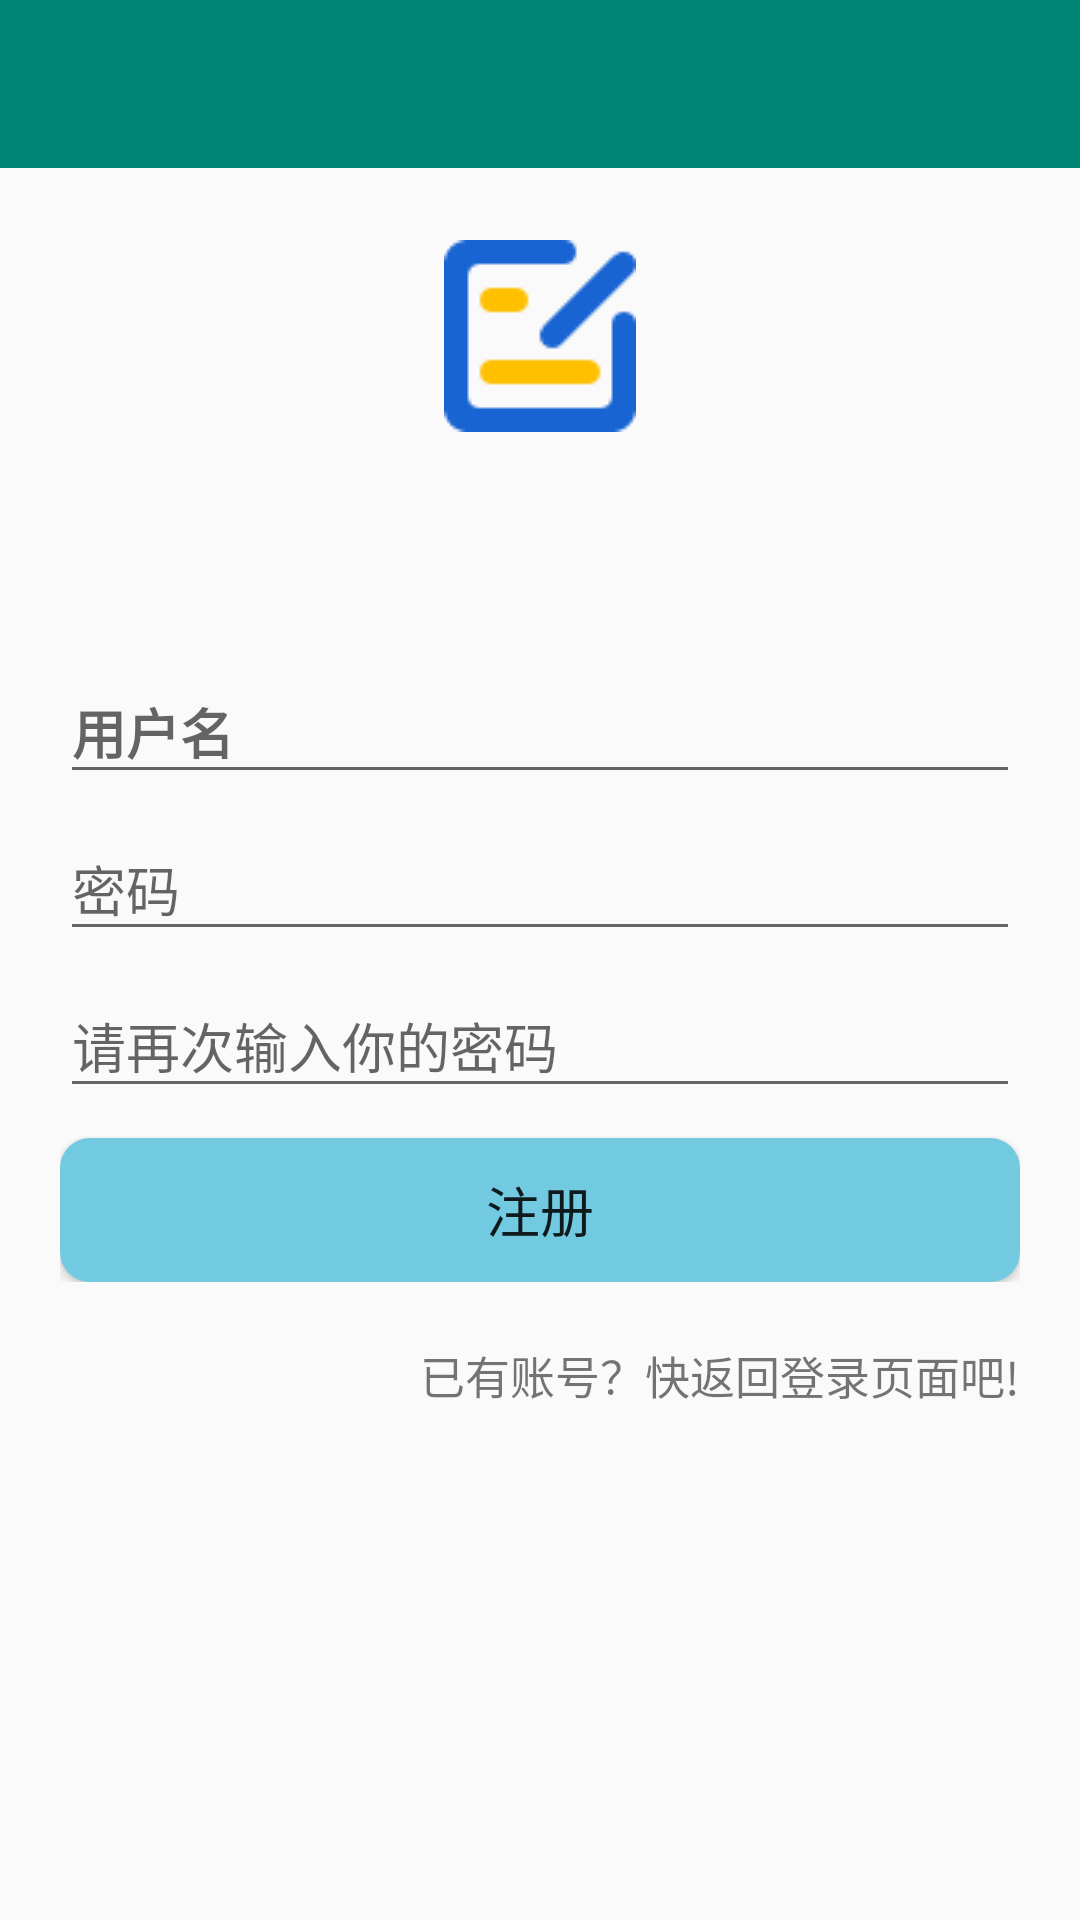

Icon click points for this 1080 x 1920 phone screenshot, format point (x, y):
registeractivity: point (540, 336)
